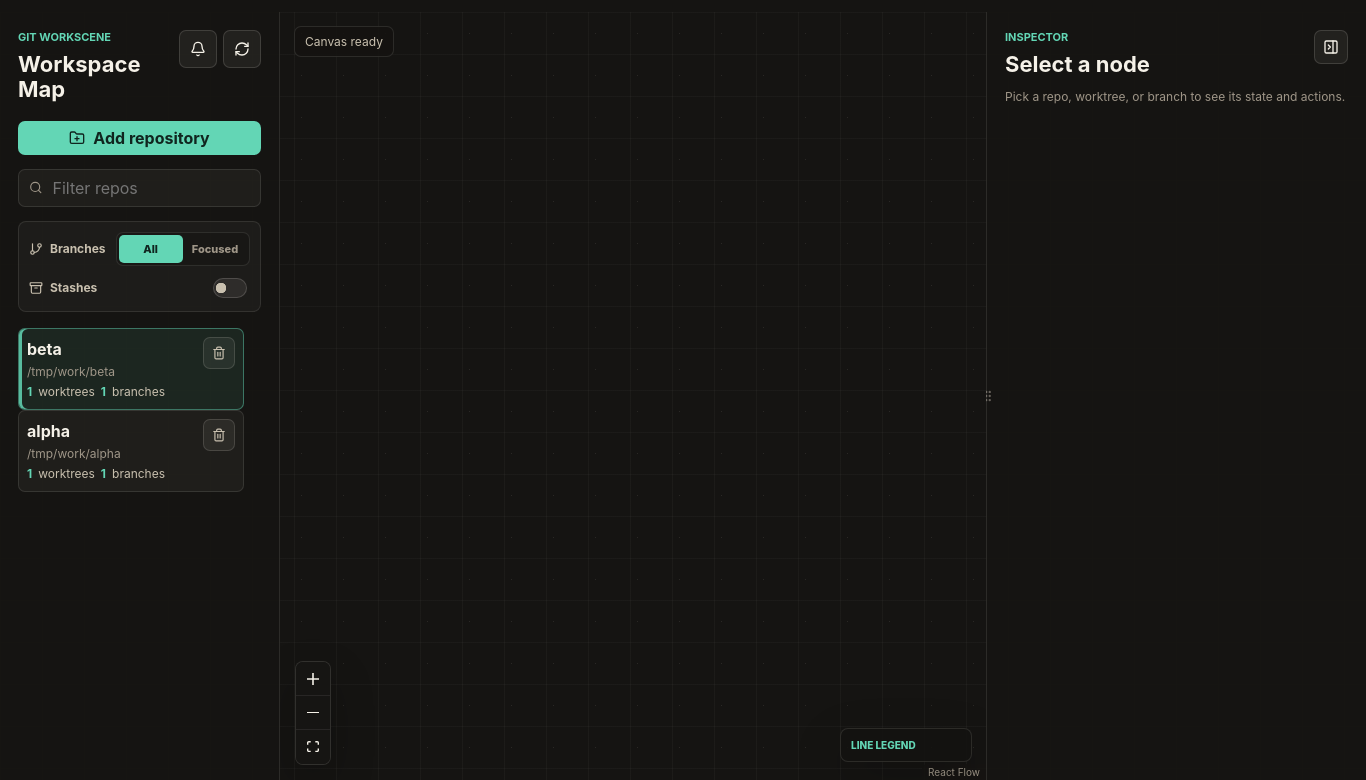
Test: App › filters repositories by name and path
Expected: the button with aria-label "Select alpha" is shown, x1=27 y1=419 x2=199 y2=483
Expected: the button with aria-label "Select beta" is shown, x1=27 y1=337 x2=199 y2=401
In the field with placeholder "Filter repos": x=150, y=188 x1=50 y1=177 x2=250 y2=199, type "alpha"
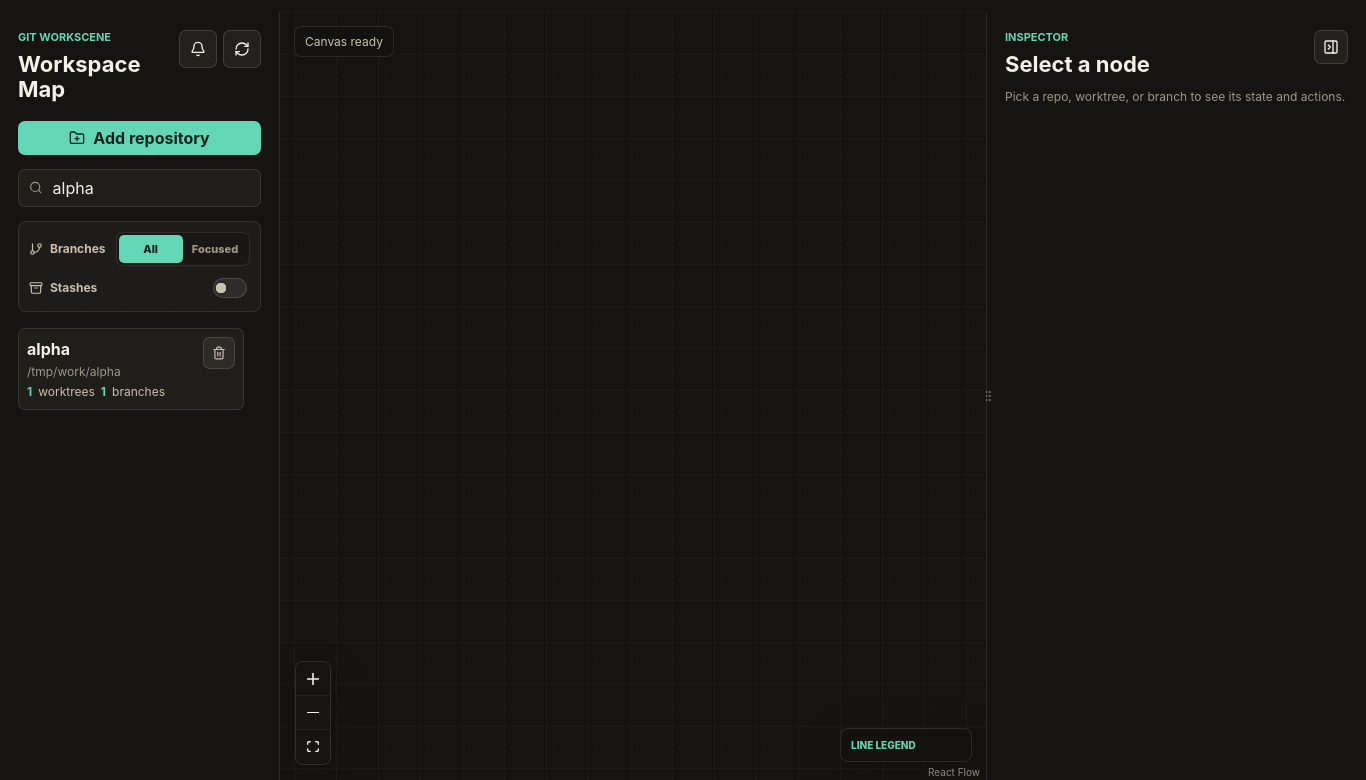
Expected: the button with aria-label "Select alpha" is shown, x1=27 y1=337 x2=199 y2=401
Replace the text in the field with placeholder "Filter repos" with "/tmp/work/beta": x=150, y=188 x1=50 y1=177 x2=250 y2=199
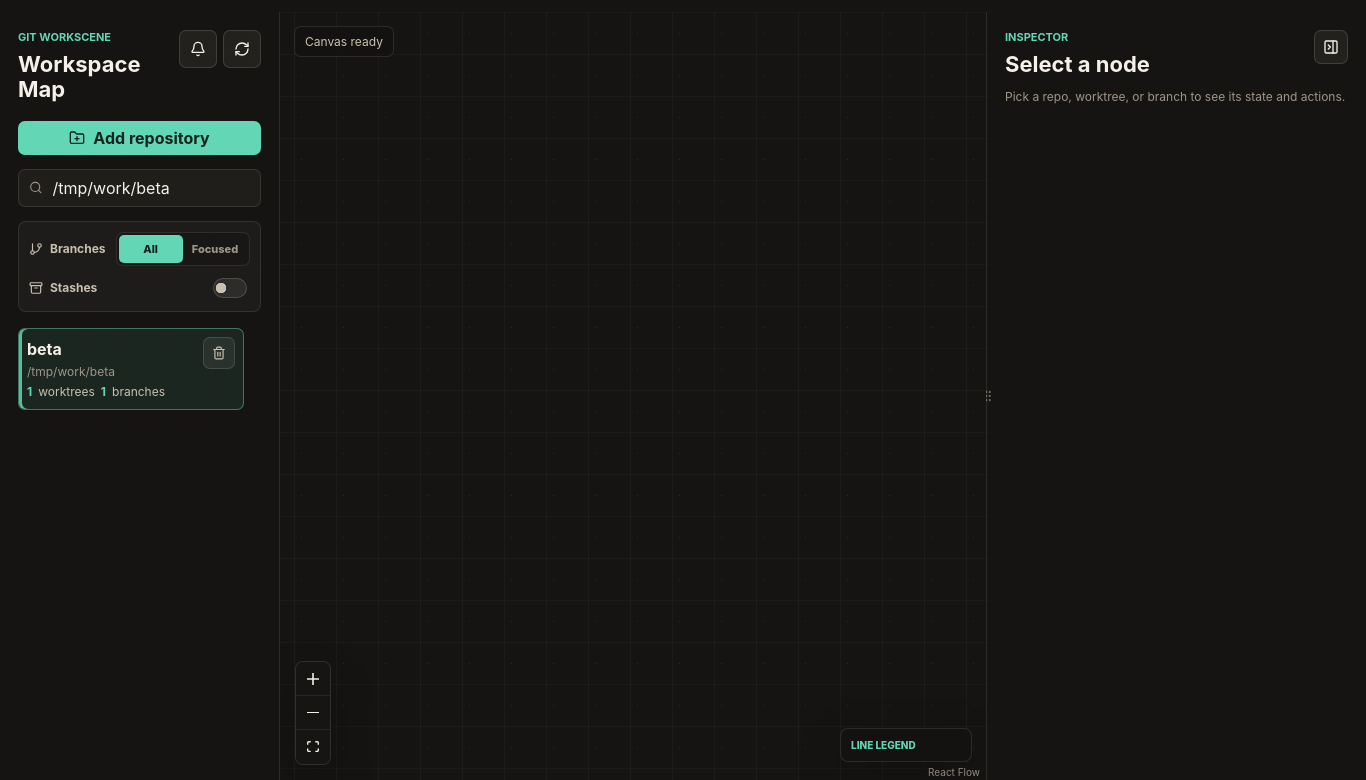
Now the button with aria-label "Select beta" is shown, box x1=27 y1=337 x2=199 y2=401
